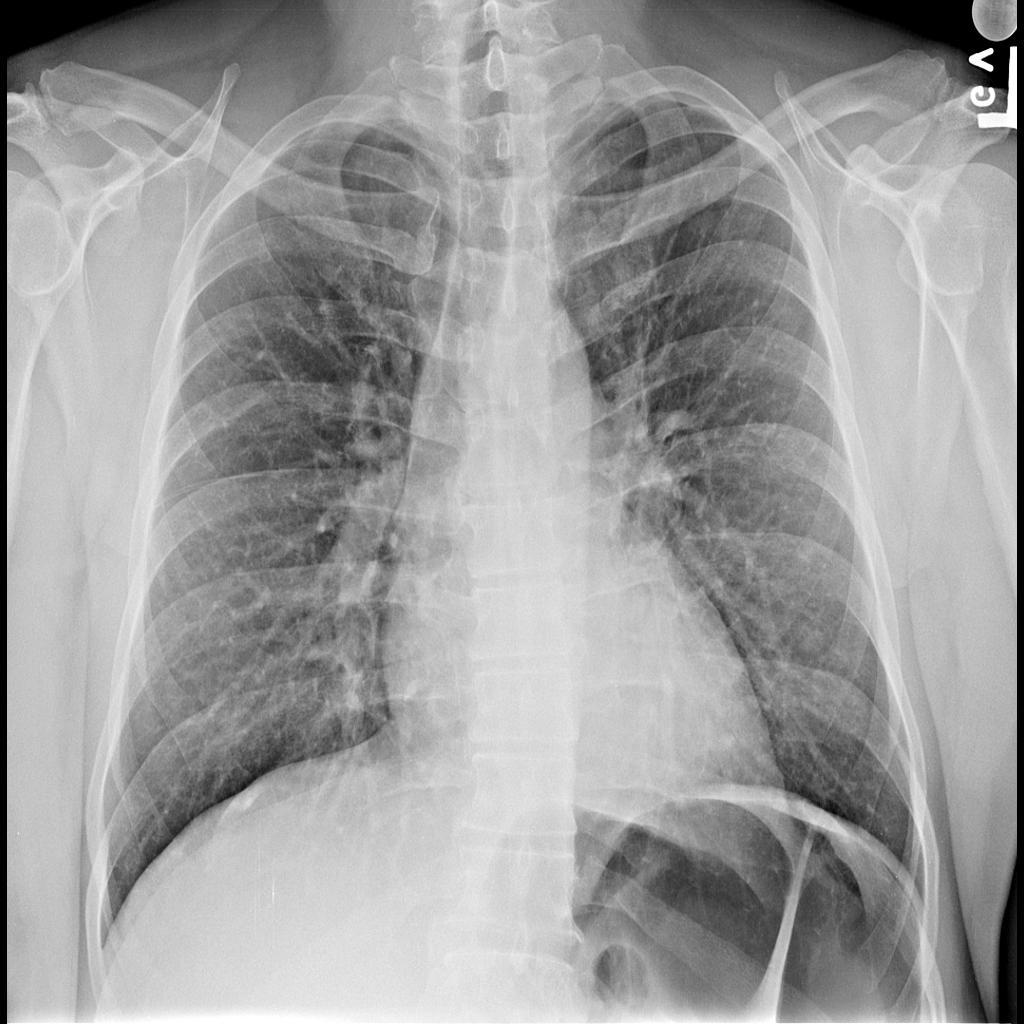Nodule: (786, 619, 842, 672)
